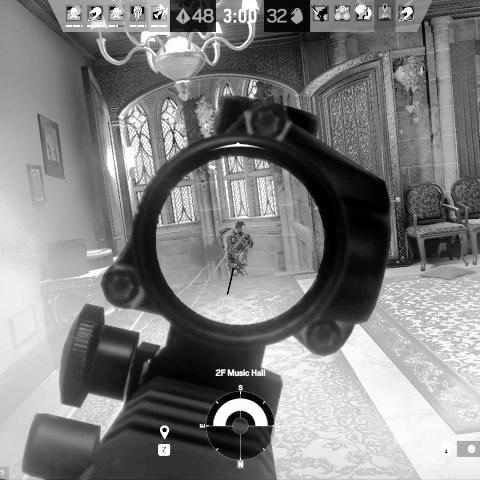Character: (218, 218, 253, 279)
Head: (234, 222, 246, 234)
